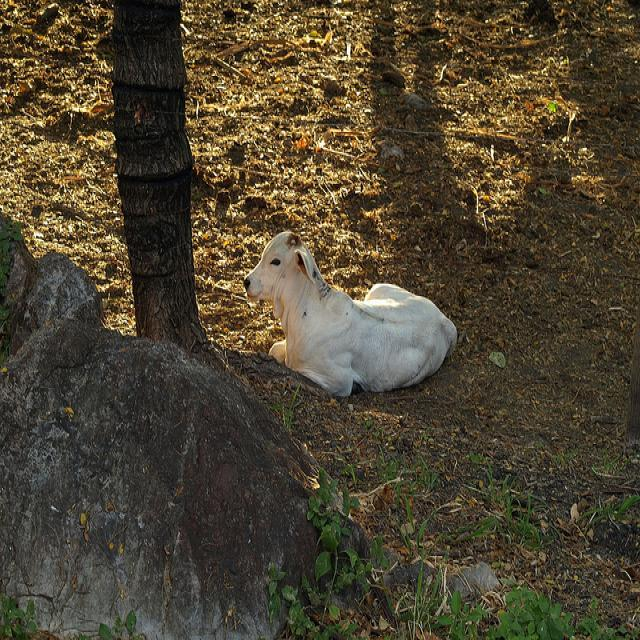cow: (244, 227, 456, 391)
